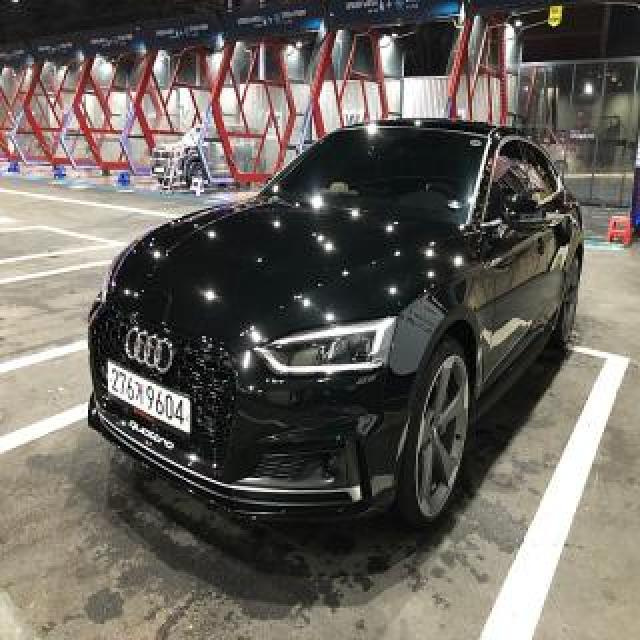car: (78, 115, 589, 530)
illegal_plate: (107, 362, 194, 439)
